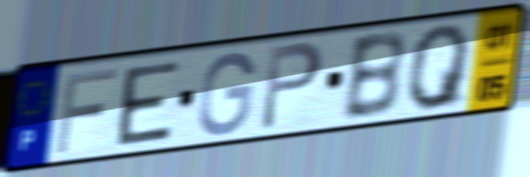B: (339, 28, 408, 124)
E: (115, 58, 183, 149)
F: (52, 64, 120, 156)
G: (195, 49, 258, 138)
P: (257, 38, 326, 134)
Q: (406, 20, 475, 114)
